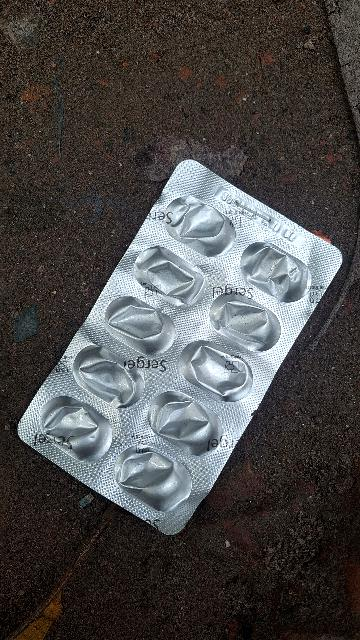medicine: (0, 130, 360, 557), (36, 118, 40, 126)
